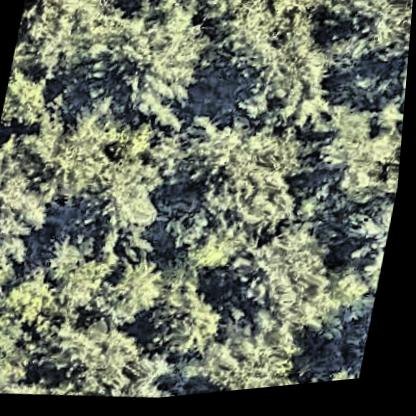tree-top: (169, 106, 312, 246), (110, 6, 220, 128), (234, 222, 345, 341), (310, 97, 408, 221), (241, 20, 335, 129), (16, 109, 111, 206), (75, 155, 167, 254), (50, 310, 151, 395), (145, 272, 231, 367), (210, 319, 312, 398), (12, 0, 108, 74), (199, 19, 282, 102), (80, 14, 158, 99), (0, 170, 58, 267), (103, 254, 175, 332), (6, 266, 77, 340), (330, 0, 398, 56), (0, 68, 52, 137), (364, 23, 412, 97), (44, 231, 100, 284), (345, 213, 397, 267), (330, 267, 375, 313), (318, 368, 367, 390), (0, 314, 1, 392)
